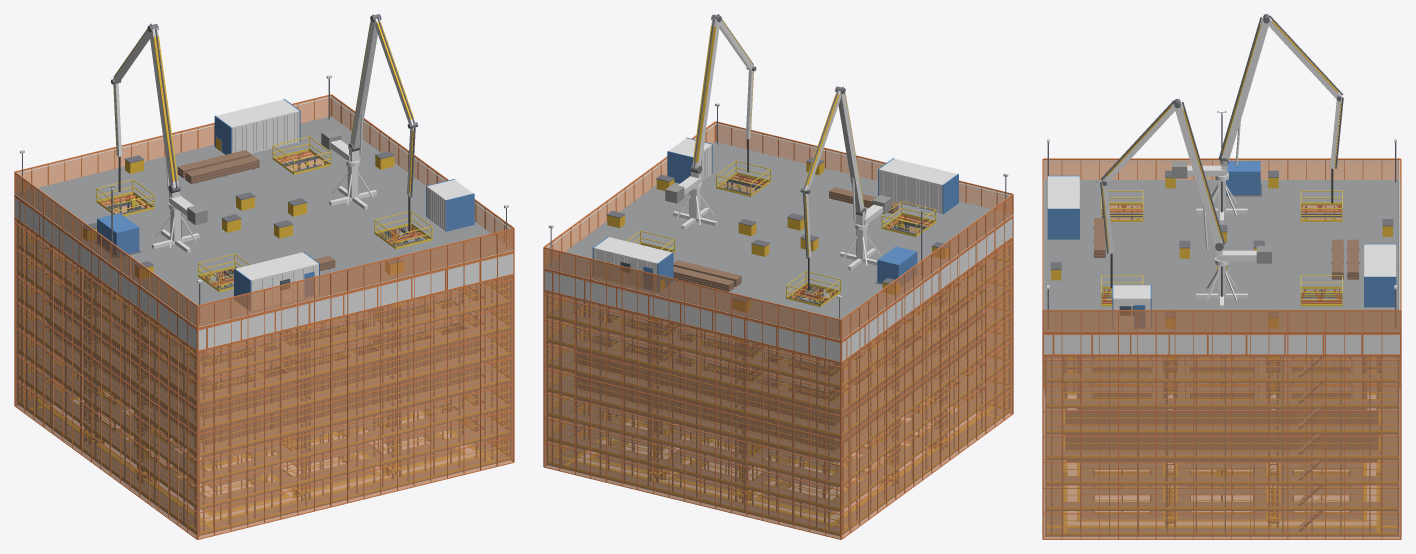
Rendered from zaoloji.glb.
3 views of the same model, side by side, from view 1: azimuth 30°, elevation 25°; view 2: azimuth 150°, elevation 25°; view 3: azimuth 270°, elevation 25° (orthographic). The views are drawn at different scales.
Visible parts, largest first — view 1: ZLJ_Mesh, ZLJ_Deck, ZLJ_MeshFrame, ZLJ_Walkways, ZLJ_Guard, ZLJ_Hangers, ZLJ_Aux, ZLJ_Forms, ZLJ_Columns, ZLJ_Edge, ZLJ_HatchRails, ZLJ_Pumps (+10 smaller); view 2: ZLJ_Mesh, ZLJ_Deck, ZLJ_MeshFrame, ZLJ_Walkways, ZLJ_Guard, ZLJ_Hangers, ZLJ_Aux, ZLJ_Forms, ZLJ_Columns, ZLJ_Edge, ZLJ_Pumps, ZLJ_HatchRails (+10 smaller); view 3: ZLJ_Mesh, ZLJ_Deck, ZLJ_Walkways, ZLJ_MeshFrame, ZLJ_Guard, ZLJ_Forms, ZLJ_Aux, ZLJ_Hangers, ZLJ_Edge, ZLJ_FlipPlates, ZLJ_Boom2_Arm1_Body, ZLJ_Boom1_Arm1_Body (+14 smaller).
Part boxes in pixels (left/top/right/bottom): ZLJ_Mesh: left=15, top=95, right=513, bottom=538; ZLJ_Deck: left=15, top=116, right=512, bottom=326; ZLJ_MeshFrame: left=14, top=94, right=514, bottom=539; ZLJ_Walkways: left=19, top=226, right=509, bottom=534; ZLJ_Guard: left=19, top=163, right=510, bottom=533; ZLJ_Hangers: left=17, top=155, right=511, bottom=535; ZLJ_Aux: left=18, top=75, right=512, bottom=323; ZLJ_Forms: left=47, top=283, right=481, bottom=456; ZLJ_Columns: left=84, top=195, right=444, bottom=500; ZLJ_Edge: left=14, top=194, right=514, bottom=352; ZLJ_HatchRails: left=96, top=136, right=432, bottom=292; ZLJ_Pumps: left=83, top=136, right=403, bottom=278; ZLJ_Mesh: left=544, top=122, right=1012, bottom=538; ZLJ_Deck: left=545, top=142, right=1012, bottom=339; ZLJ_MeshFrame: left=543, top=121, right=1013, bottom=539; ZLJ_Walkways: left=548, top=246, right=1008, bottom=534; ZLJ_Guard: left=548, top=186, right=1009, bottom=534; ZLJ_Hangers: left=547, top=177, right=1009, bottom=535; ZLJ_Aux: left=547, top=103, right=1010, bottom=336; ZLJ_Forms: left=574, top=298, right=980, bottom=461; ZLJ_Columns: left=609, top=216, right=947, bottom=503; ZLJ_Edge: left=543, top=215, right=1013, bottom=363; ZLJ_Pumps: left=607, top=157, right=948, bottom=311; ZLJ_HatchRails: left=626, top=160, right=936, bottom=307; ZLJ_Mesh: left=1043, top=159, right=1400, bottom=538; ZLJ_Deck: left=1043, top=180, right=1400, bottom=331; ZLJ_Walkways: left=1046, top=289, right=1397, bottom=535; ZLJ_MeshFrame: left=1042, top=158, right=1401, bottom=539; ZLJ_Guard: left=1046, top=217, right=1398, bottom=534; ZLJ_Forms: left=1065, top=293, right=1378, bottom=461; ZLJ_Aux: left=1043, top=111, right=1400, bottom=328; ZLJ_Hangers: left=1045, top=206, right=1398, bottom=536; ZLJ_Edge: left=1042, top=205, right=1401, bottom=356; ZLJ_FlipPlates: left=1046, top=393, right=1397, bottom=532; ZLJ_Boom2_Arm1_Body: left=1173, top=101, right=1225, bottom=250; ZLJ_Boom1_Arm1_Body: left=1218, top=17, right=1269, bottom=165.
Size of the model in its own units: 27.96 by 34.84 by 27.96.
